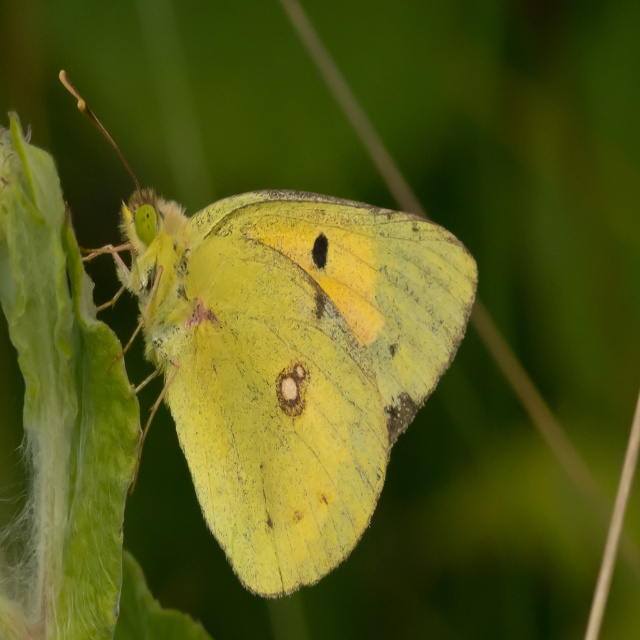Butterfly: (54, 57, 497, 616)
